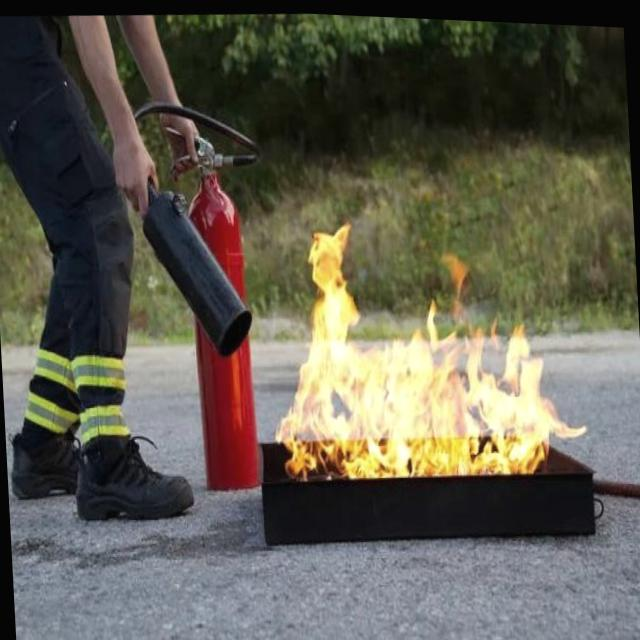FireExtinguisher: (100, 85, 282, 498)
